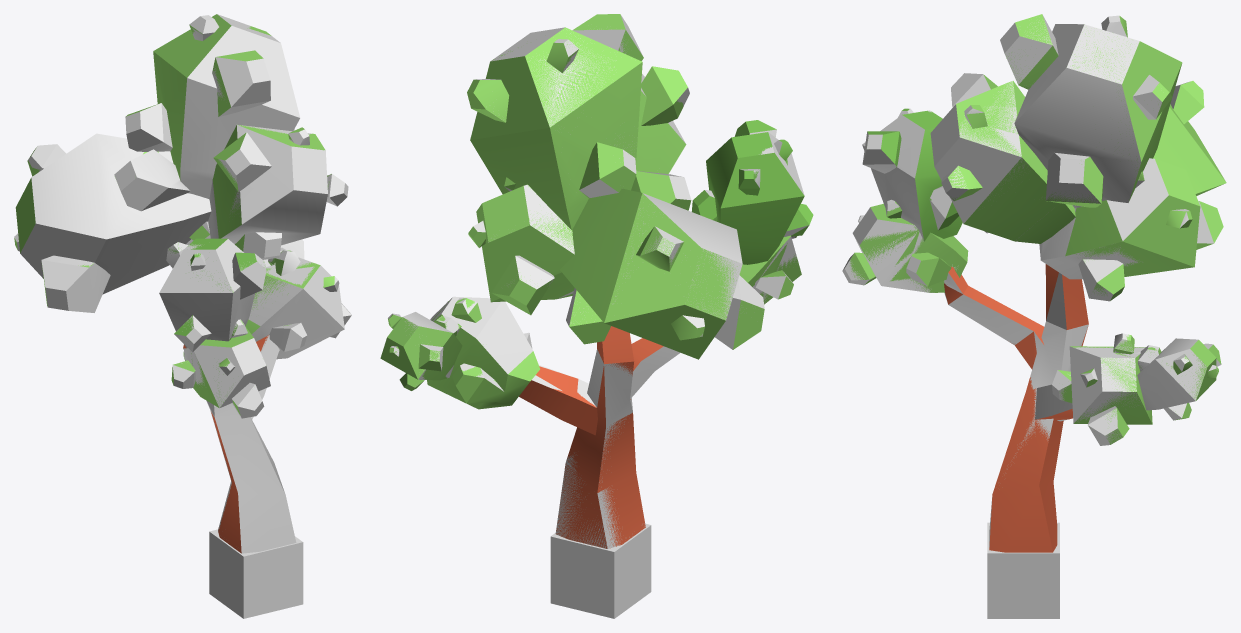
Rendered from tree.gltf.
3 views of the same model, side by side, from view 1: azimuth 30°, elevation 25°; view 2: azimuth 150°, elevation 25°; view 3: azimuth 270°, elevation 25° (orthographic). The views are drawn at different scales.
Parts seen in each view (by area): view 1: Tree, Tree.001, Cube; view 2: Tree.001, Tree, Cube; view 3: Tree, Tree.001, Cube.
Boxes of the visible parts, box(x1,y1,x2,y2) form: Tree: box(14, 14, 351, 553); Tree.001: box(14, 14, 334, 553); Cube: box(209, 529, 303, 618); Tree.001: box(380, 14, 813, 548); Tree: box(388, 15, 808, 548); Cube: box(550, 523, 651, 618); Tree: box(842, 15, 1221, 546); Tree.001: box(850, 14, 1226, 552); Cube: box(987, 522, 1059, 618).
Bounding box in the file's own units: 10.59 × 17.73 × 10.6.
